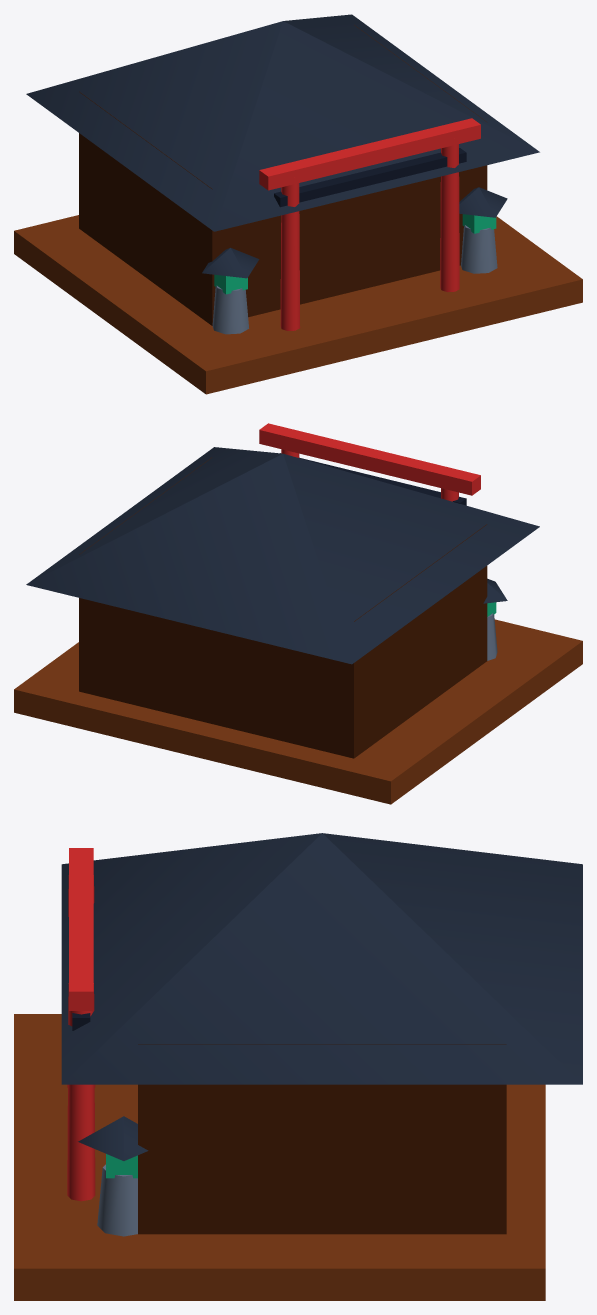
Rendered from wano_dojo.glb.
3 renders of one model, top to bottom at view 1: azimuth 30°, elevation 25°; view 2: azimuth 150°, elevation 25°; view 3: azimuth 270°, elevation 25°, orthographic. The views are drawn at different scales.
Visible parts, largest first — view 1: WanoDojo; view 2: WanoDojo; view 3: WanoDojo.
Boxes of the visible parts, x1,y1,x2,y2 form: WanoDojo: (14,14,582,394); WanoDojo: (14,423,582,804); WanoDojo: (14,833,582,1300).
Bounding box in the file's own units: 8.5 × 5.3 × 8.03.
